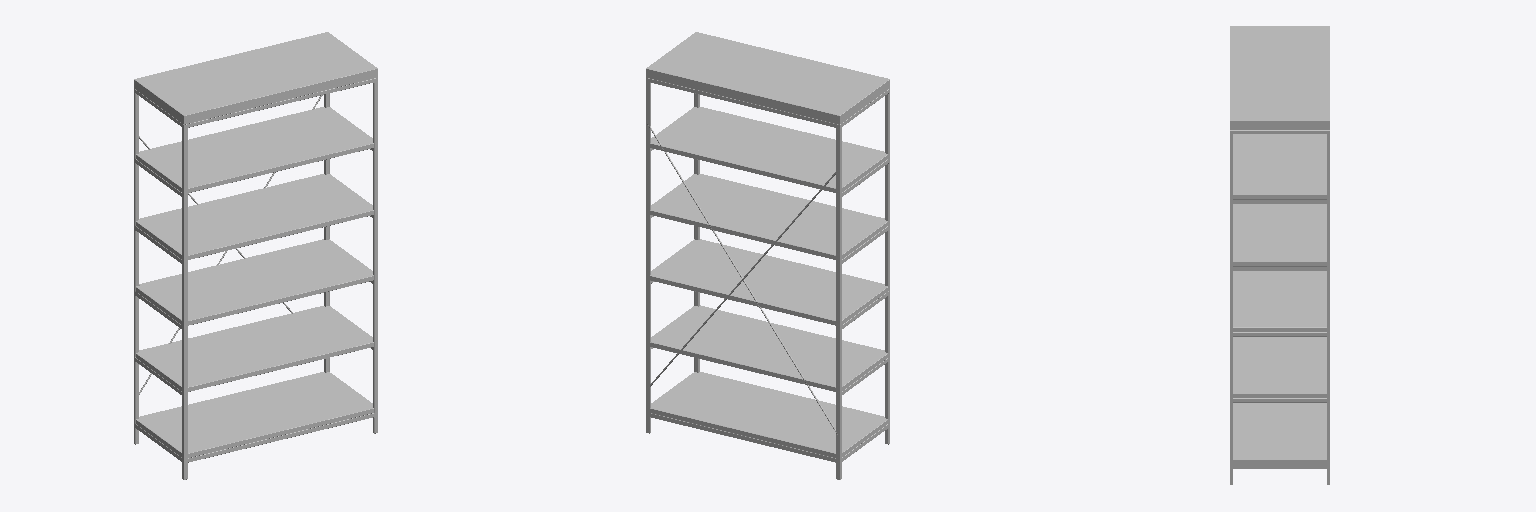
Rendered from shelf.obj.
3 renders of one model, left to right at view 1: azimuth 30°, elevation 25°; view 2: azimuth 150°, elevation 25°; view 3: azimuth 270°, elevation 25°, orthographic.
Bounding box in the file's own units: 45.77 × 81.99 × 20.55.